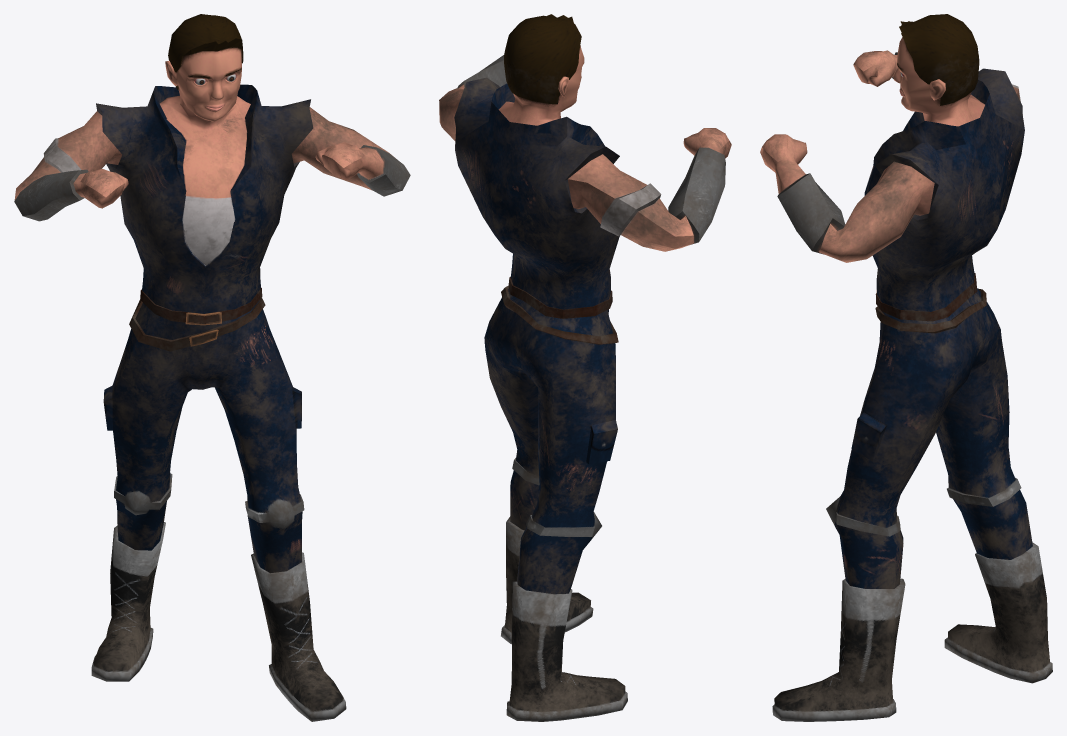
Rendered from Anim_especial_jugador.0014.obj.
The picture shows the model from 3 angles, left to right: view 1: azimuth 30°, elevation 25°; view 2: azimuth 150°, elevation 25°; view 3: azimuth 270°, elevation 25°; orthographic projection. The views are drawn at different scales.
Parts seen in each view (by area): view 1: polySurface1; view 2: polySurface1; view 3: polySurface1.
Boxes of the visible parts, x1,y1,x2,y2 form: polySurface1: [14, 14, 410, 721]; polySurface1: [439, 14, 731, 721]; polySurface1: [760, 14, 1052, 721].
Bounding box in the file's own units: 4.97 × 9.6 × 3.77.
